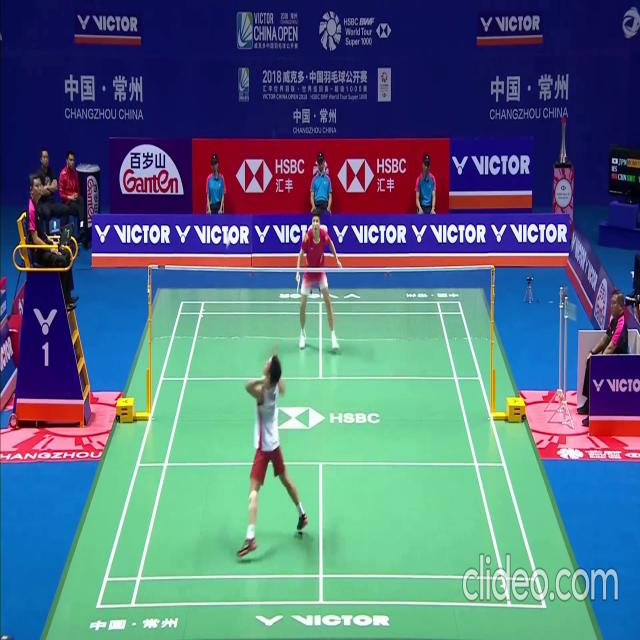Shuttlecock: (225, 240, 230, 247)
